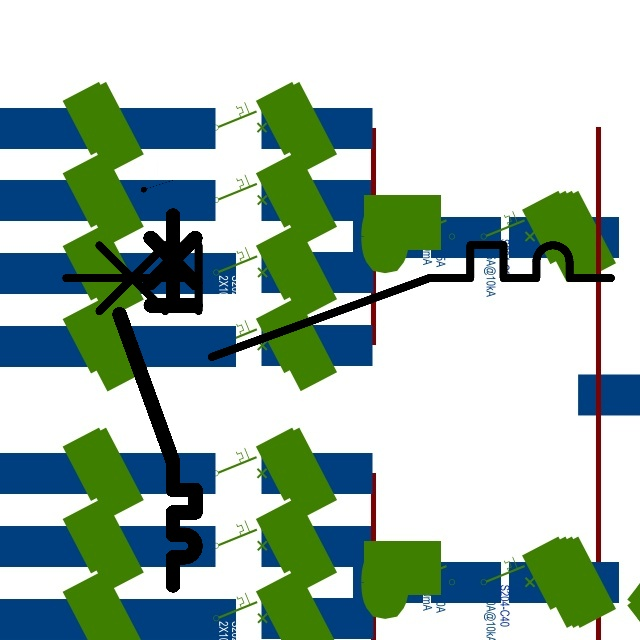interruptor_termomagnetico: (52, 231, 625, 371), (110, 206, 205, 595)
